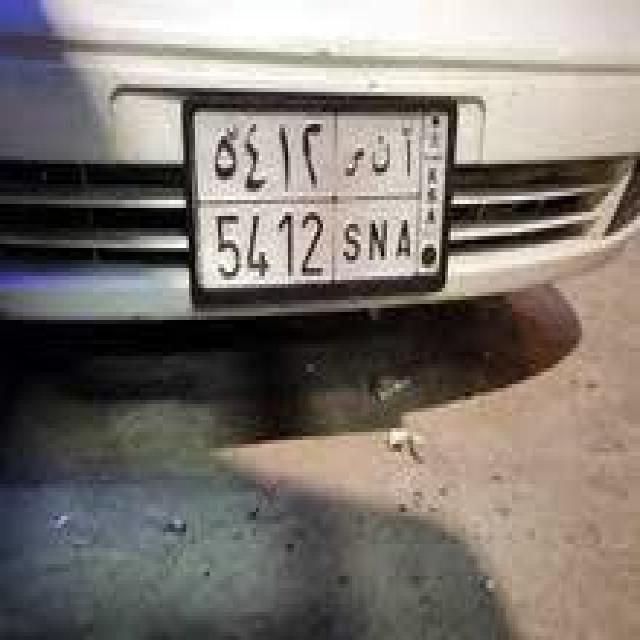license_plate: (160, 68, 466, 320)
